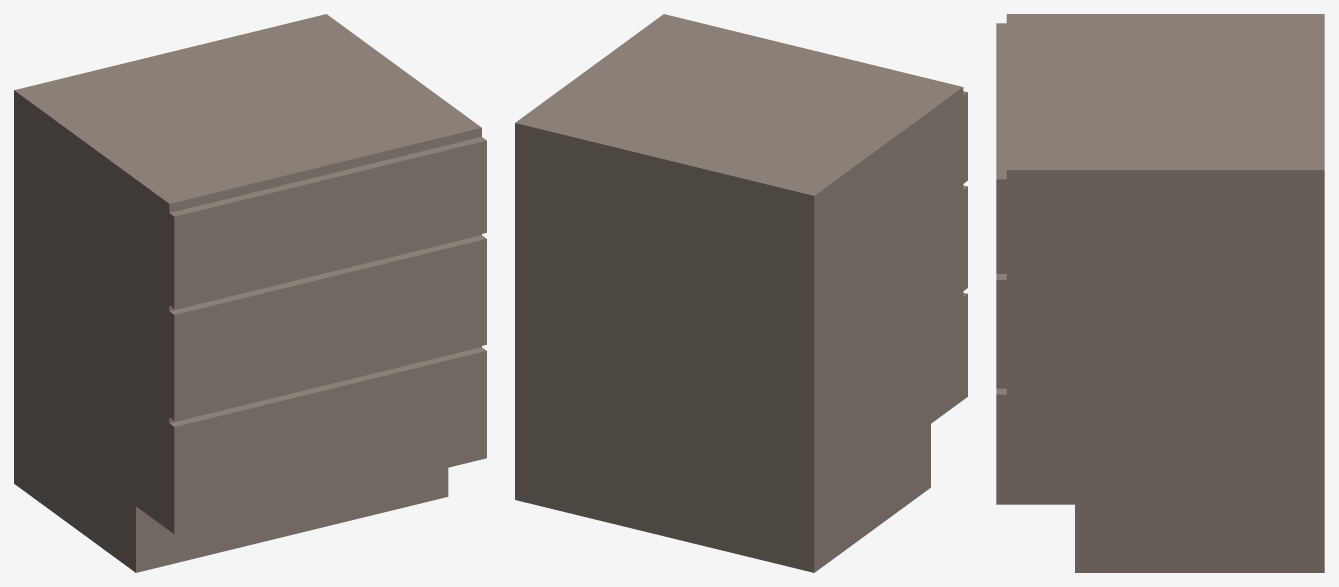
File: Universal-Design-Base-Cabinet-Three-Drawer-24-Deep_std_001_W27i.glb
The picture shows the model from 3 angles, left to right: view 1: azimuth 30°, elevation 25°; view 2: azimuth 150°, elevation 25°; view 3: azimuth 270°, elevation 25°; orthographic projection. The views are drawn at different scales.
Parts seen in each view (by area): view 1: Universal-Design-Base-Cabinet-Three-Drawer-24-Deep.std.001_W; view 2: Universal-Design-Base-Cabinet-Three-Drawer-24-Deep.std.001_W; view 3: Universal-Design-Base-Cabinet-Three-Drawer-24-Deep.std.001_W.
Boxes of the visible parts, x1=… form: Universal-Design-Base-Cabinet-Three-Drawer-24-Deep.std.001_W: x1=14, y1=14, x2=486, y2=572; Universal-Design-Base-Cabinet-Three-Drawer-24-Deep.std.001_W: x1=515, y1=14, x2=967, y2=572; Universal-Design-Base-Cabinet-Three-Drawer-24-Deep.std.001_W: x1=996, y1=14, x2=1324, y2=572.
Size of the model in its own units: 0.6858 by 0.8255 by 0.6096.
